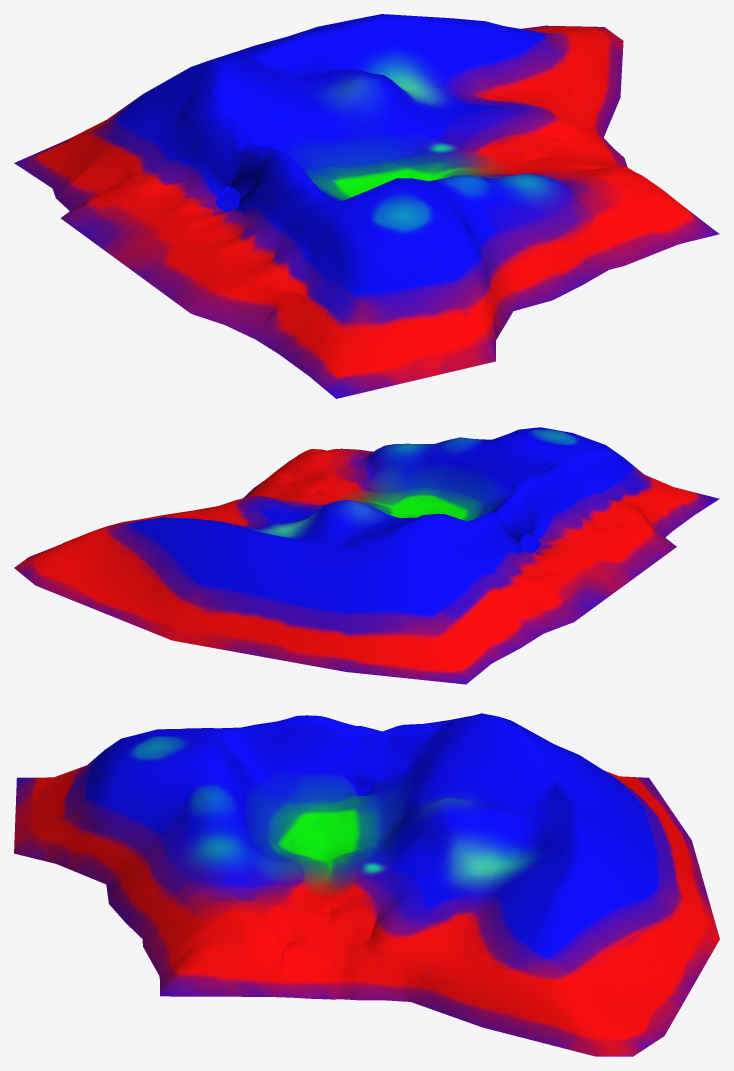
Rendered from IslandTerrainMeshShape.dae.
The picture shows the model from 3 angles, top to bottom: view 1: azimuth 30°, elevation 25°; view 2: azimuth 150°, elevation 25°; view 3: azimuth 270°, elevation 25°; orthographic projection. The views are drawn at different scales.
Visible parts, largest first — view 1: IslandTerrainMesh; view 2: IslandTerrainMesh; view 3: IslandTerrainMesh.
Boxes of the visible parts, x1,y1,x2,y2 form: IslandTerrainMesh: (14,14,719,398); IslandTerrainMesh: (14,427,719,684); IslandTerrainMesh: (14,713,719,1056).
Size of the model in its own units: 1180 by 229 by 1172.
